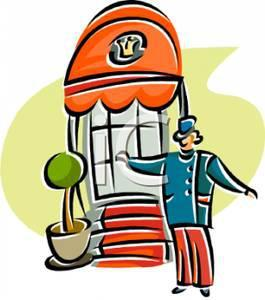person: (113, 112, 261, 297)
pottedplant: (40, 147, 93, 264)
